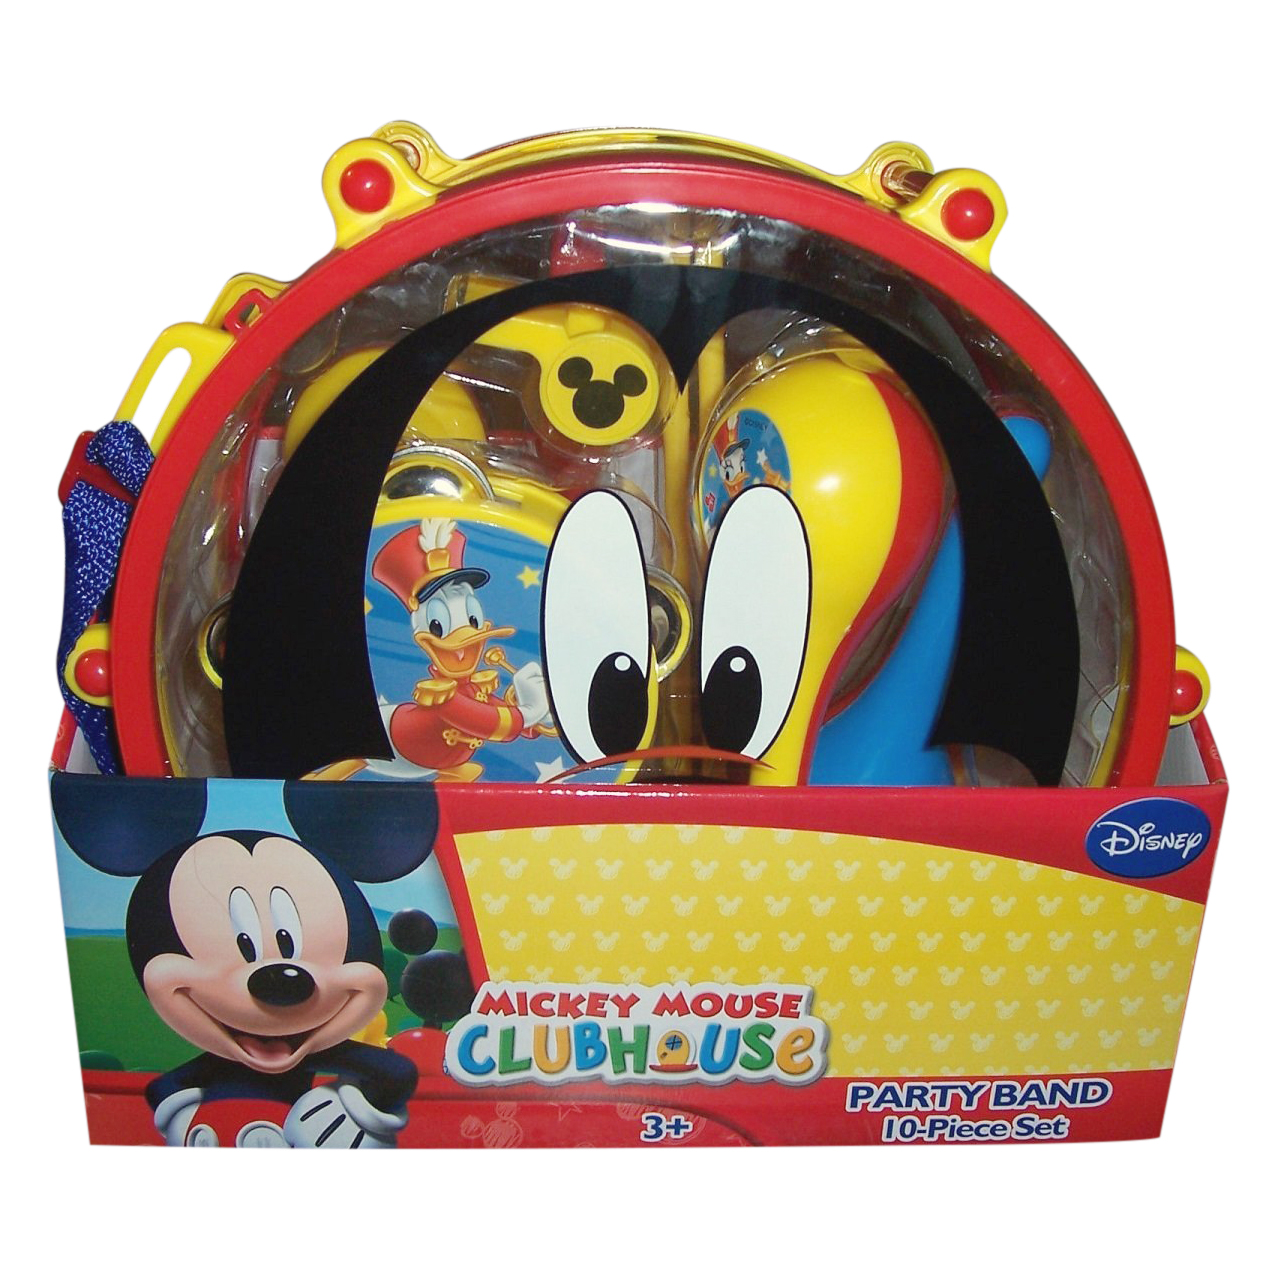Disney: (1078, 786, 1220, 889)
